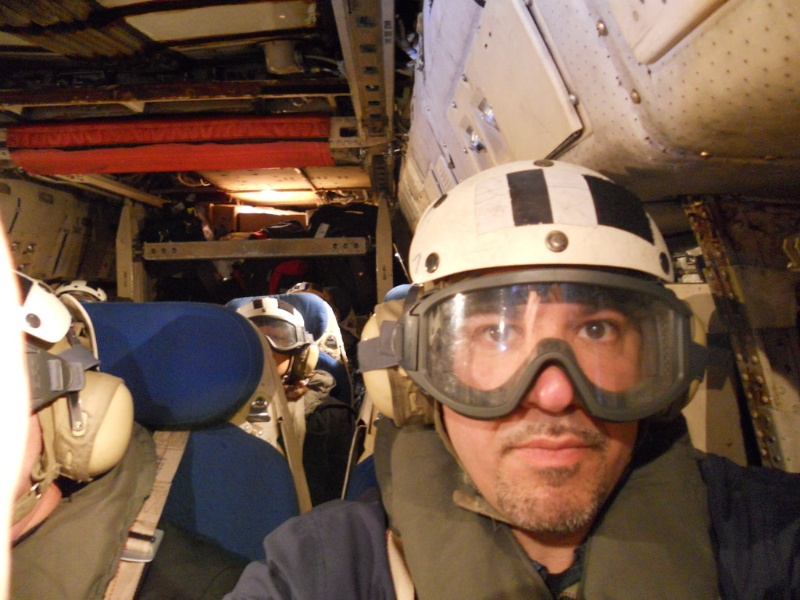Baret: (410, 159, 679, 286)
